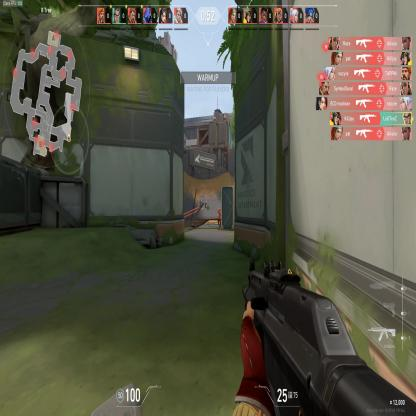enemy: (216, 206, 222, 228)
